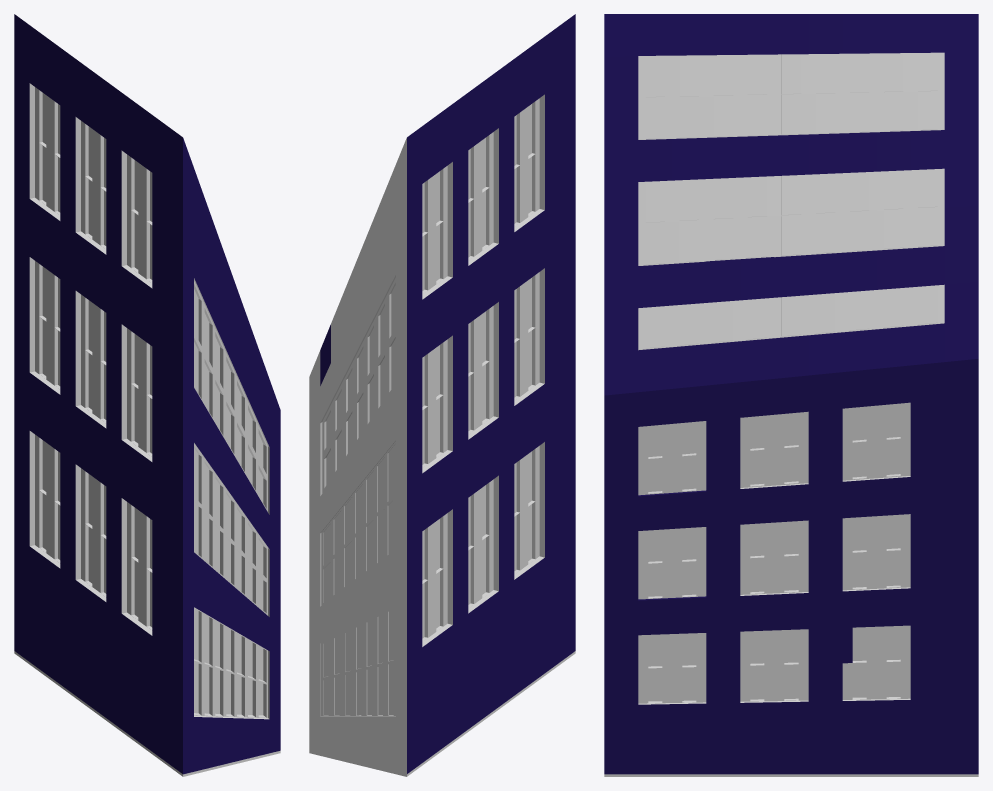
Rendered from 31_st_clement_street.fbx.
3 views of the same model, side by side, from view 1: azimuth 30°, elevation 25°; view 2: azimuth 150°, elevation 25°; view 3: azimuth 270°, elevation 25° (orthographic). The views are drawn at different scales.
Parts seen in each view (by area): view 1: Cube; view 2: Cube; view 3: Cube.
Boxes of the visible parts, x1,y1,x2,y2 form: Cube: (14, 14, 280, 776); Cube: (309, 14, 575, 776); Cube: (604, 14, 978, 776).
Bounding box in the file's own units: 80 × 502 × 240.
